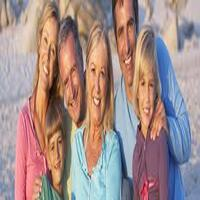person: (131, 27, 175, 125), (82, 26, 122, 127), (105, 1, 145, 81), (37, 103, 75, 185), (30, 14, 65, 101)
